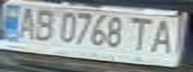0: (54, 8, 78, 44)
6: (90, 11, 112, 47)
7: (72, 9, 93, 45)
8: (106, 11, 130, 51)
A: (145, 16, 184, 55), (9, 2, 42, 42)
B: (30, 4, 60, 43)
T: (124, 14, 157, 53)
